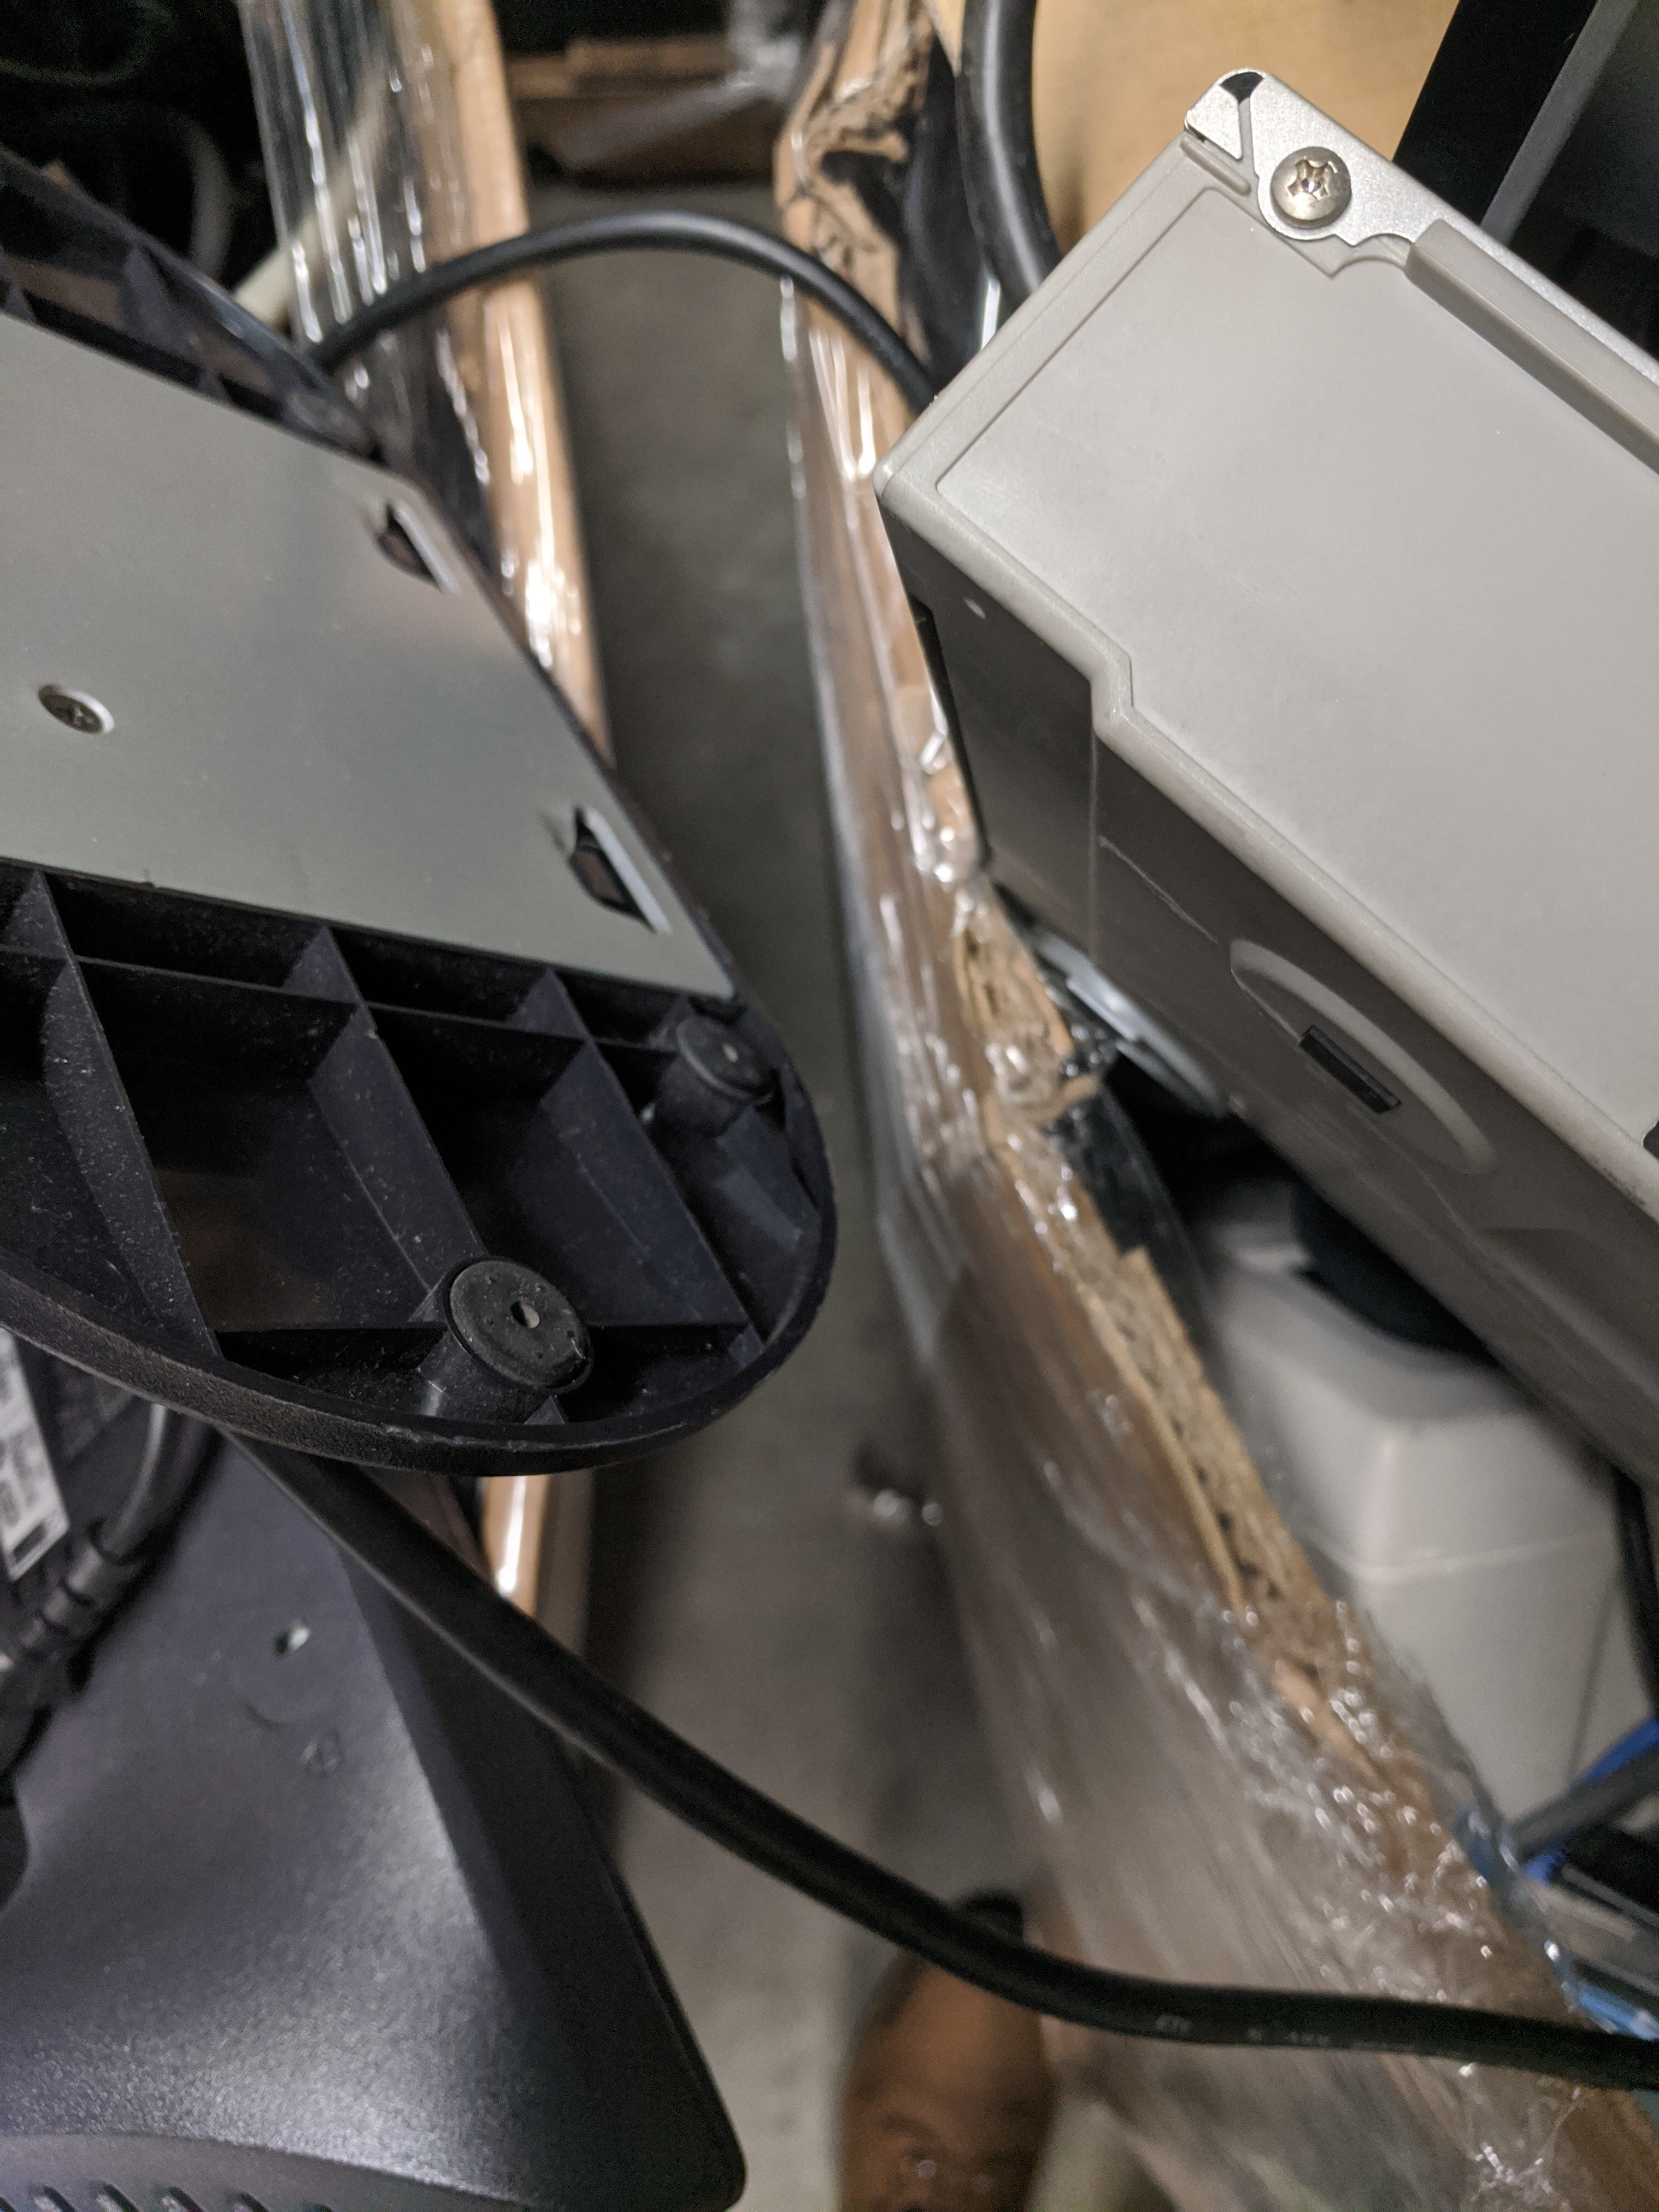cross_recessed_screw: (1263, 138, 1351, 214)
